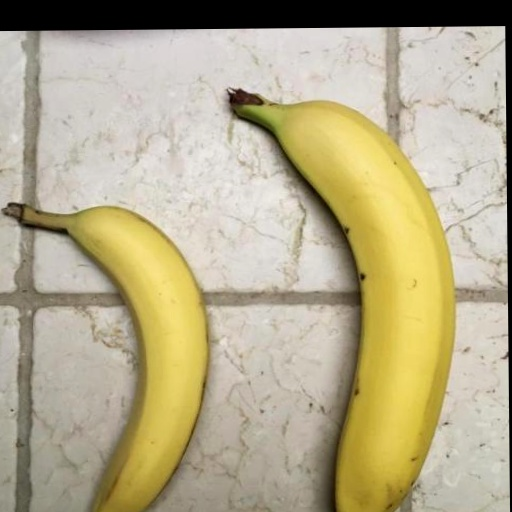fruit: (230, 91, 455, 512), (3, 204, 208, 512)
